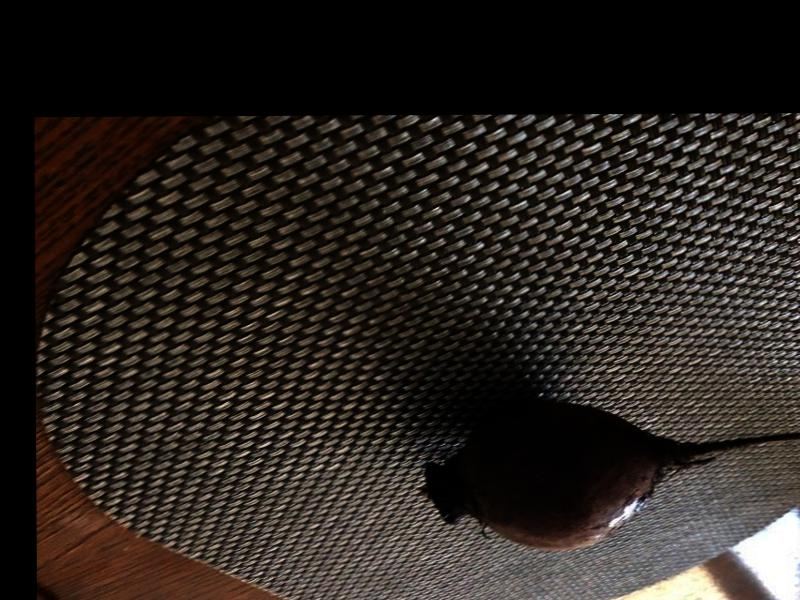Beet: (424, 402, 800, 549)
